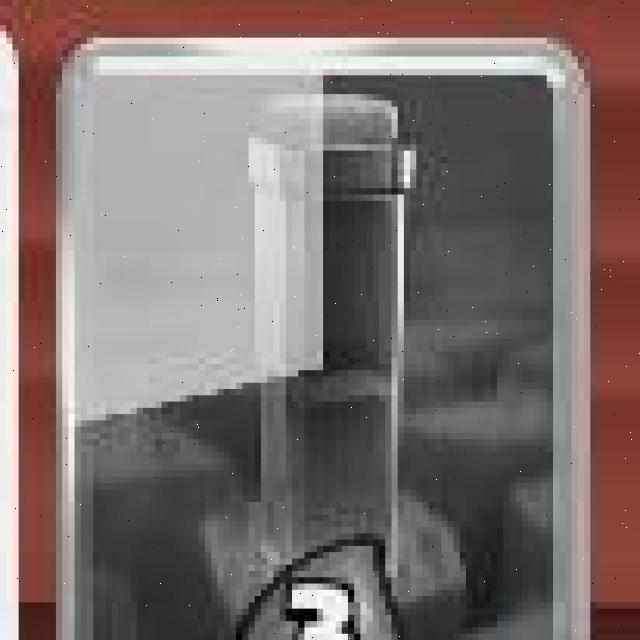Earthquake: (54, 38, 592, 640)
